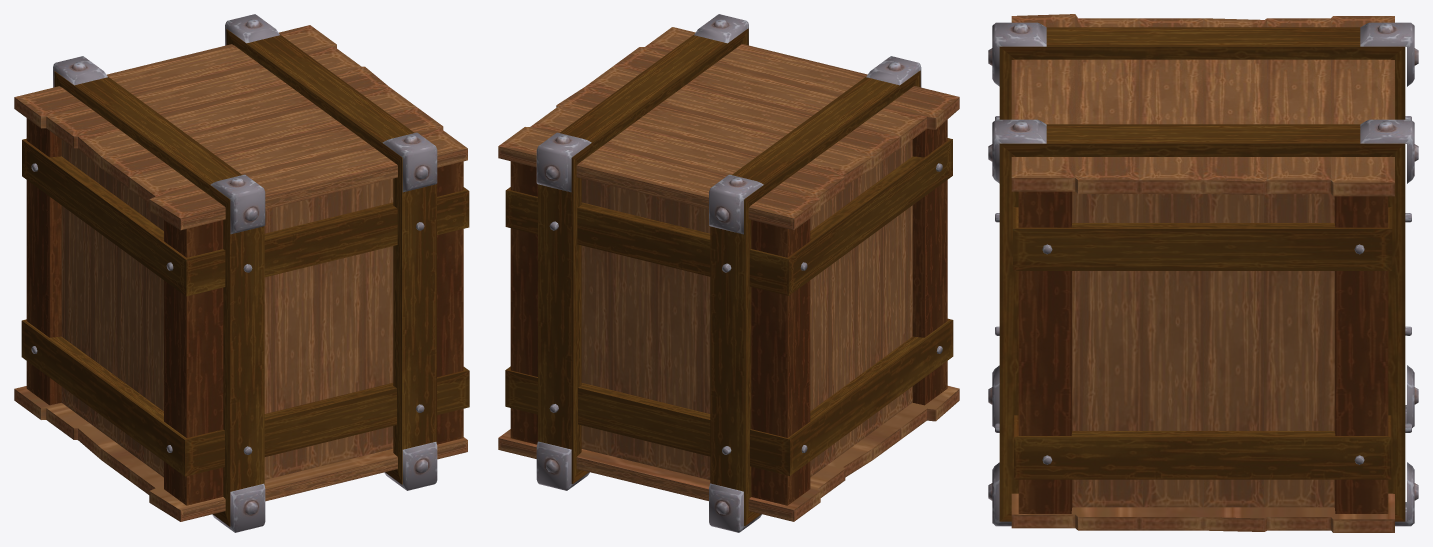
File: Crate_Wooden.gltf
3 views of the same model, side by side, from view 1: azimuth 30°, elevation 25°; view 2: azimuth 150°, elevation 25°; view 3: azimuth 270°, elevation 25° (orthographic). The views are drawn at different scales.
Parts seen in each view (by area): view 1: Crate_Wooden; view 2: Crate_Wooden; view 3: Crate_Wooden.
Boxes of the visible parts, bbox=[...] form: Crate_Wooden: bbox=[14, 14, 469, 532]; Crate_Wooden: bbox=[498, 14, 959, 532]; Crate_Wooden: bbox=[988, 14, 1418, 532].
Size of the model in its own units: 0.8423 by 0.9309 by 0.9083.
Materials: 2 (2 with a texture image).
